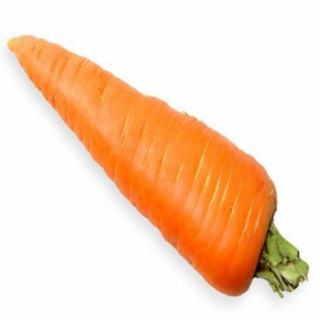carrot: (4, 22, 284, 304)
